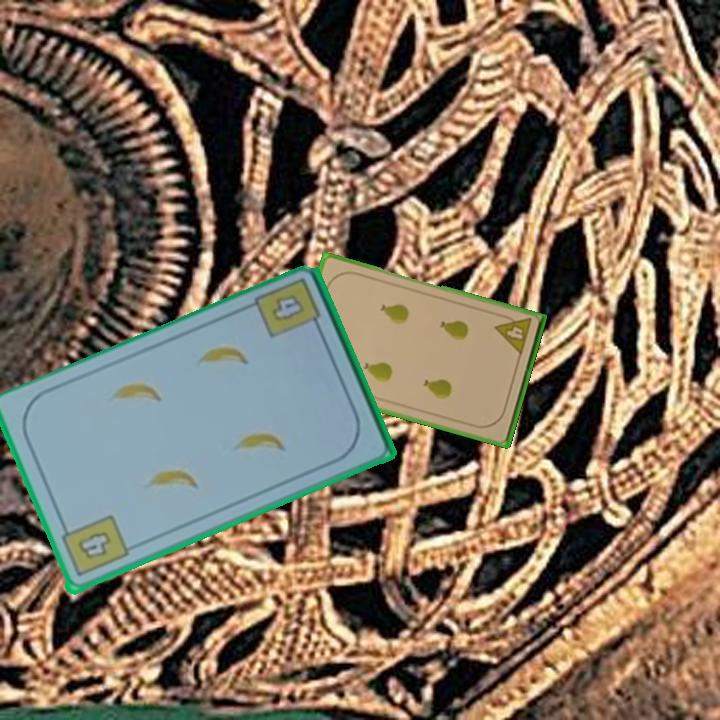4b: (57, 512, 131, 581), (251, 274, 326, 342)
4p: (491, 310, 535, 358)
